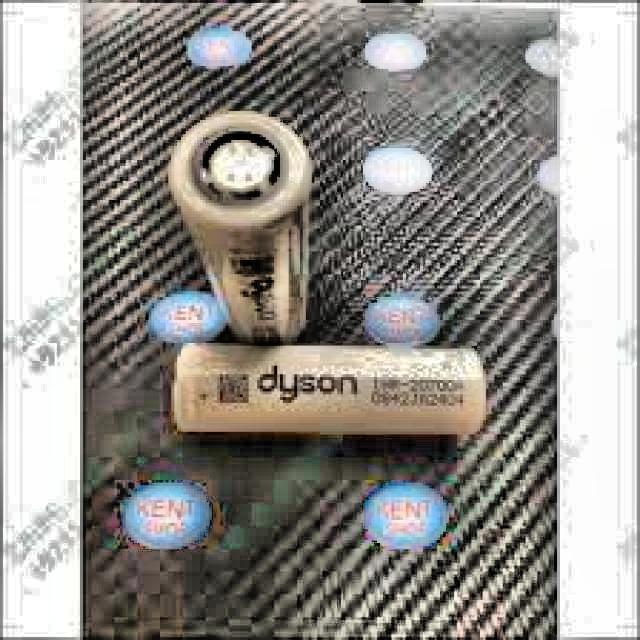battery: (169, 111, 308, 344), (174, 343, 486, 433)
